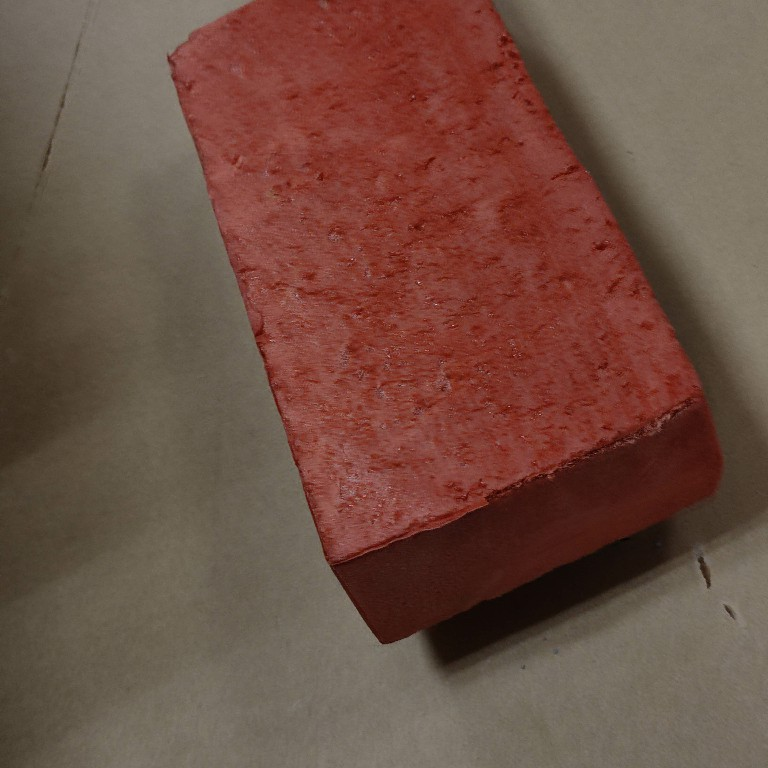brick: (159, 1, 731, 650)
